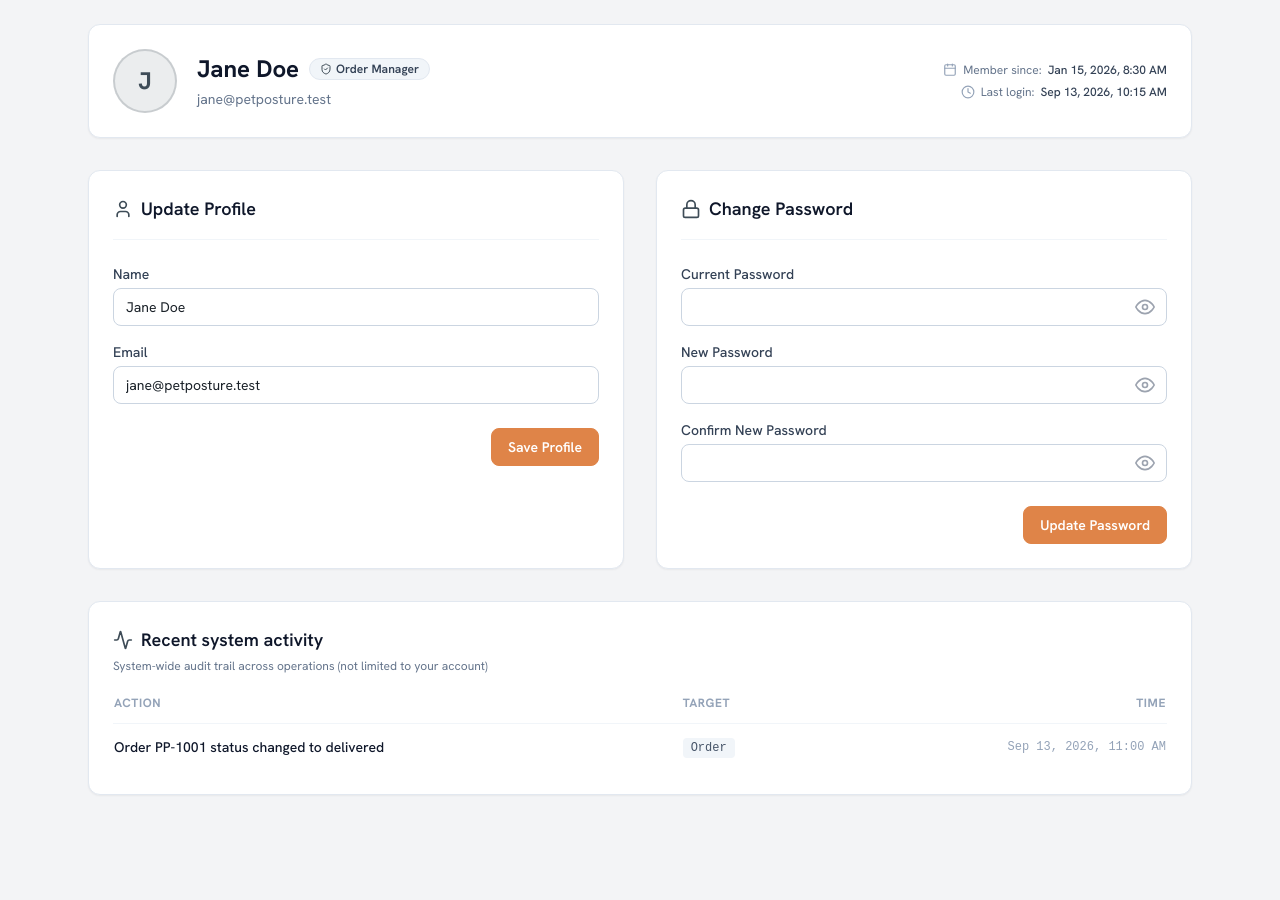
ProfilePage › surfaces per-field validation errors on profile form
The image size is (1280, 900).
Expected: the field labelled "Email" is shown, top-left (113, 366), bottom-right (599, 404)
Click the button "Save Profile": coordinates (545, 447) top-left (491, 428), bottom-right (599, 466)
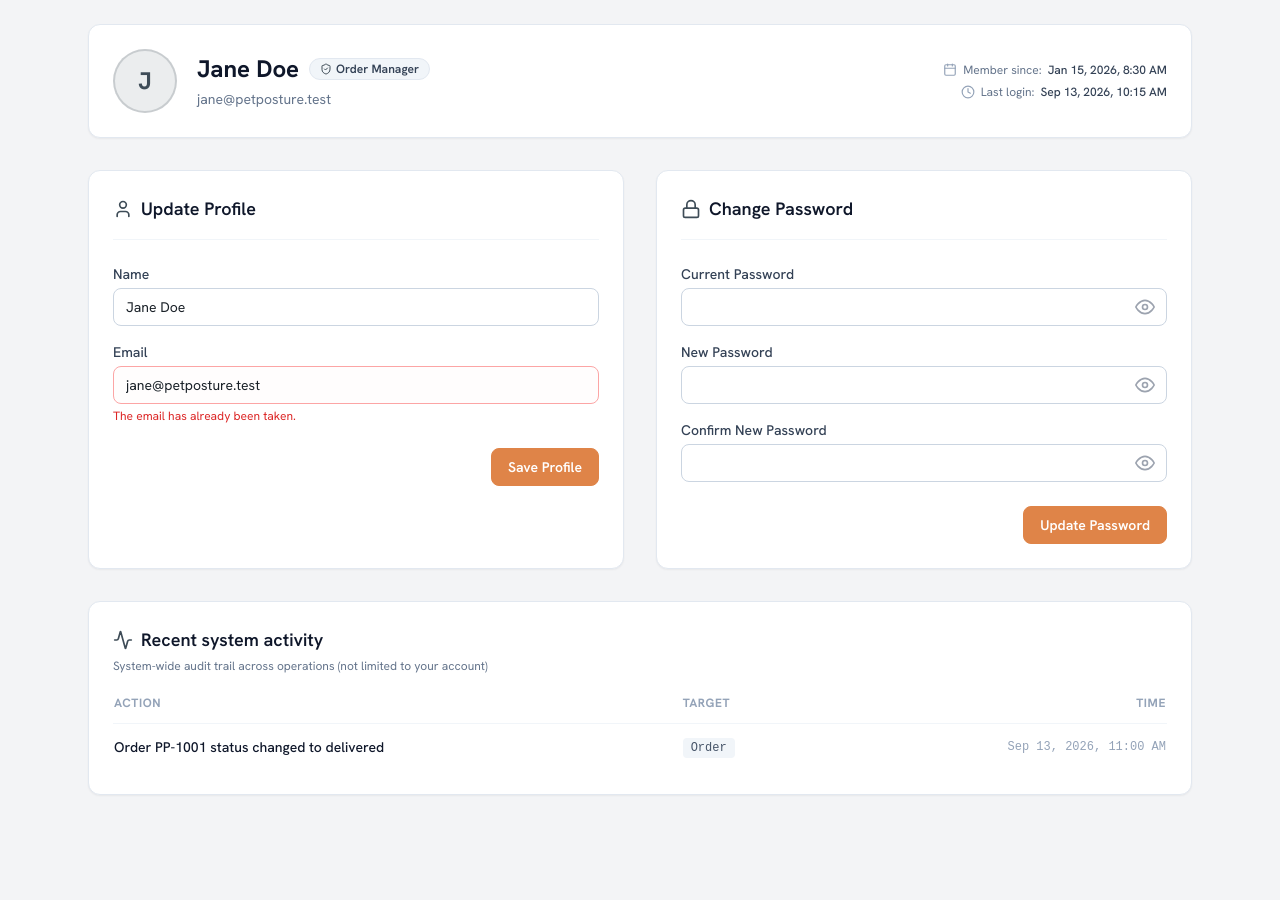
Result: the text "The email has already been taken." is shown at top-left (113, 408), bottom-right (296, 424)
